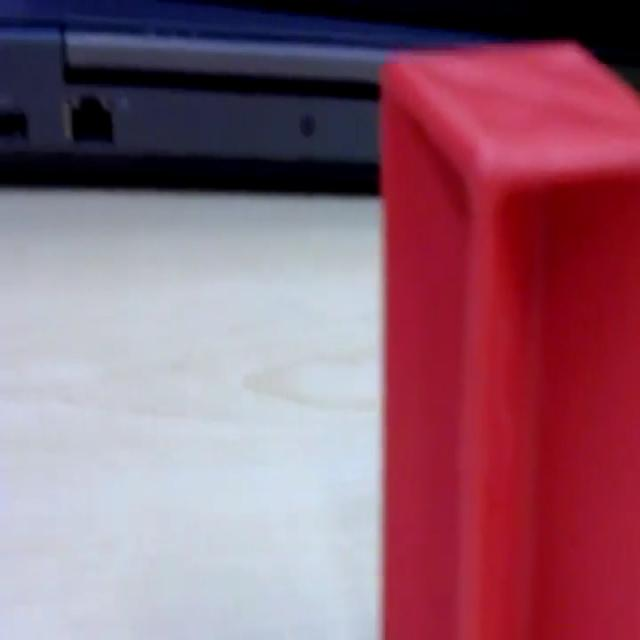red_block: (376, 39, 638, 637)
